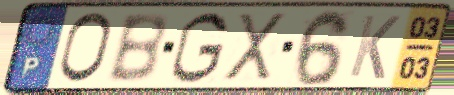6: (290, 6, 354, 88)
B: (104, 10, 169, 85)
G: (168, 9, 232, 86)
K: (345, 12, 403, 82)
O: (55, 10, 115, 86)
X: (222, 11, 288, 84)
